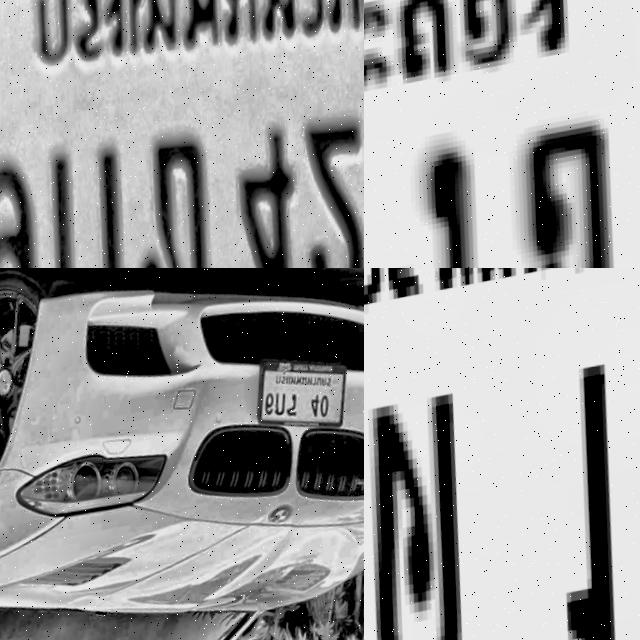license-plate: (364, 268, 640, 640), (0, 0, 364, 268), (364, 0, 640, 268), (246, 349, 359, 459)
